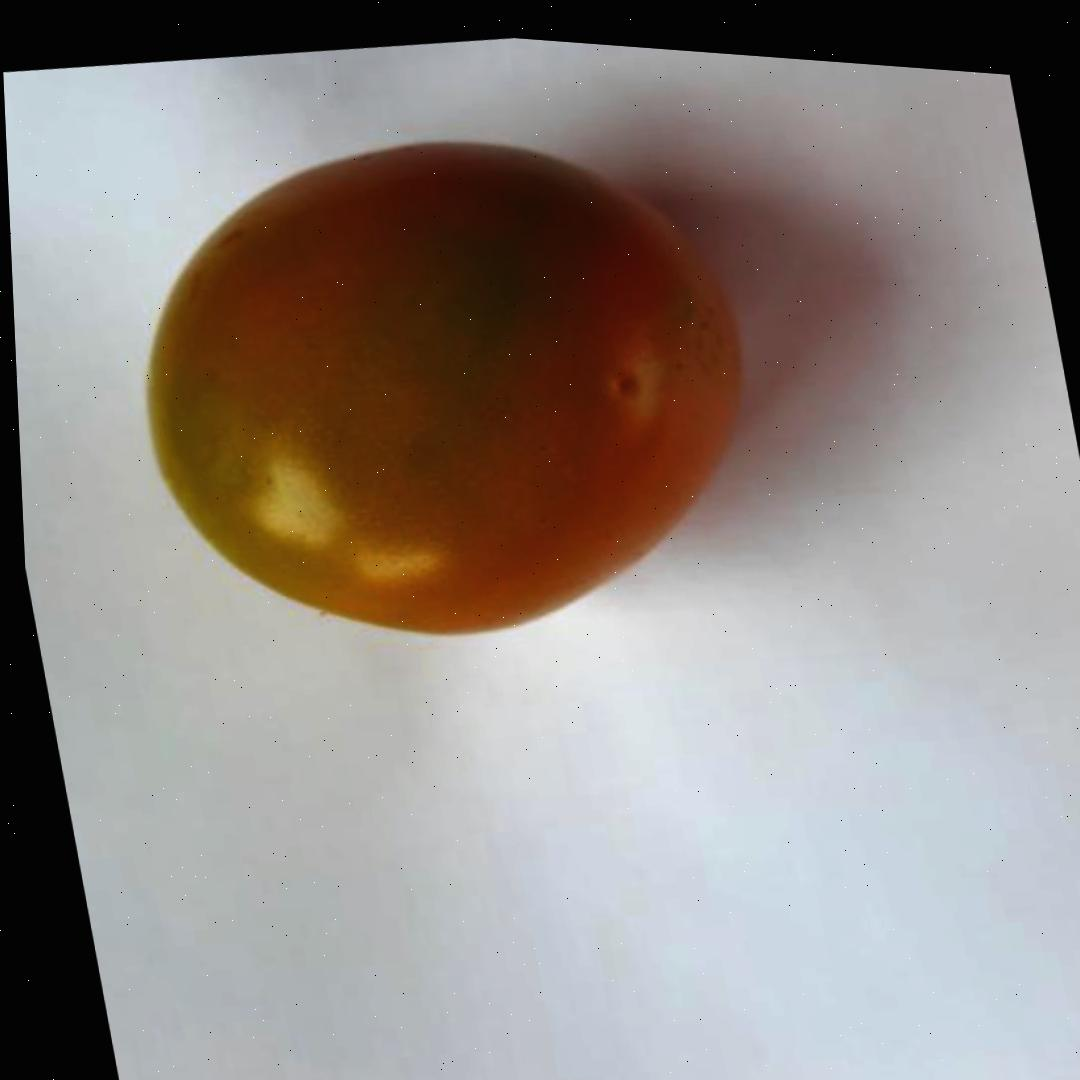setengah_matang: (85, 72, 801, 705)
